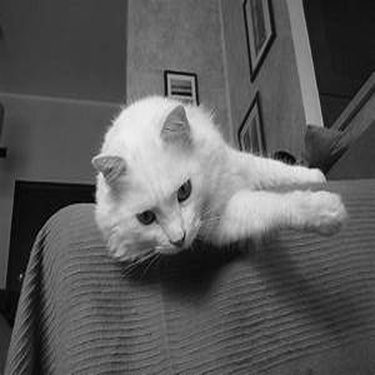cat: (91, 91, 350, 268)
